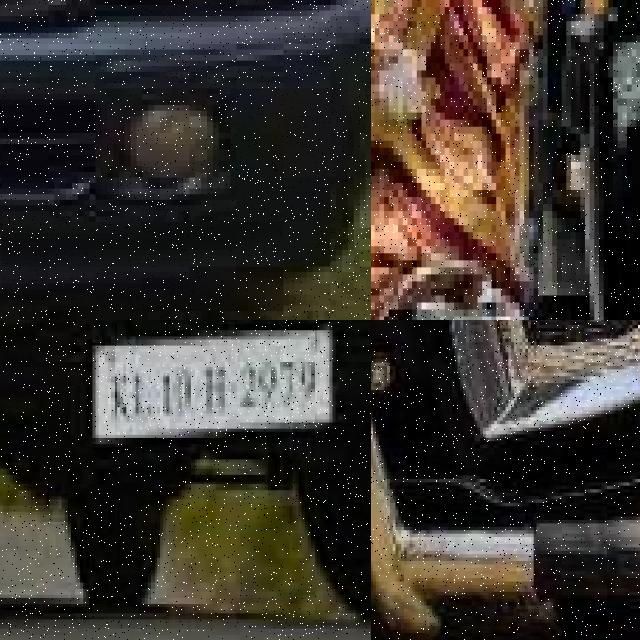bike: (371, 155, 589, 320)
car: (0, 0, 371, 320), (0, 320, 371, 635), (371, 320, 640, 640)
